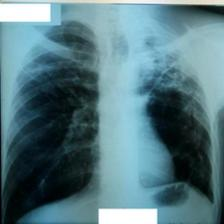tuberculosis: (2, 19, 215, 224)
